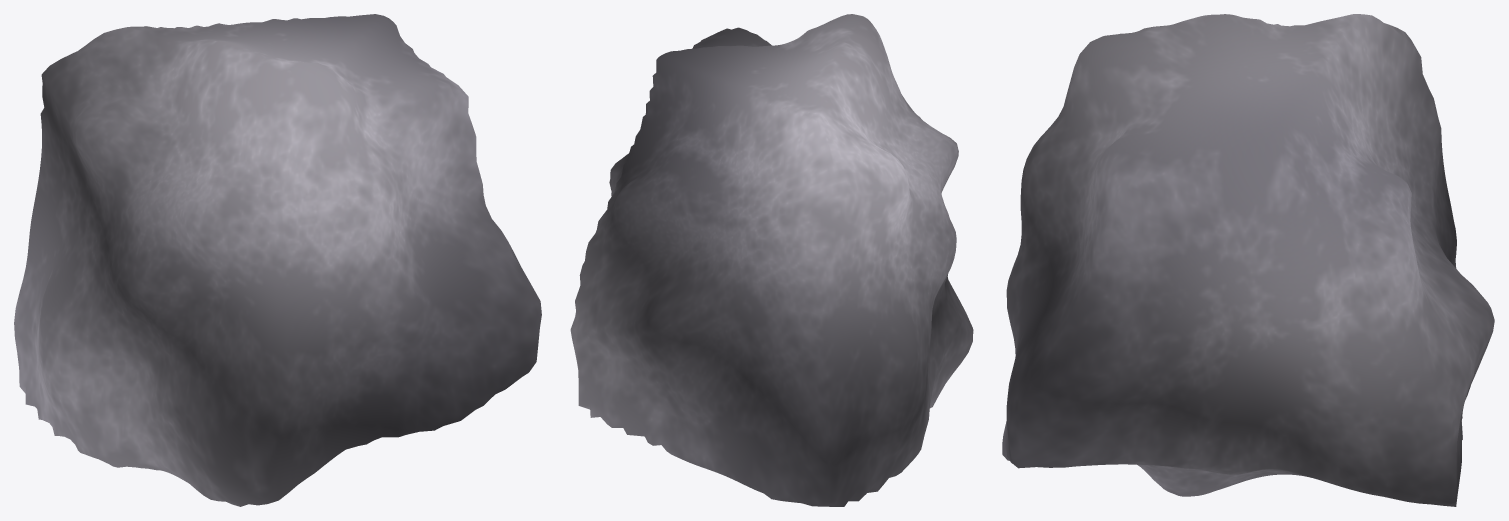
File: asteroid-monolith.glb
3 views of the same model, side by side, from view 1: azimuth 30°, elevation 25°; view 2: azimuth 150°, elevation 25°; view 3: azimuth 270°, elevation 25° (orthographic). The views are drawn at different scales.
Parts seen in each view (by area): view 1: asteroid_5005; view 2: asteroid_5005; view 3: asteroid_5005.
Part boxes in pixels (x1,y1,x2,y2): asteroid_5005: (14,14,541,506); asteroid_5005: (570,14,973,506); asteroid_5005: (1002,14,1494,506).
Size of the model in its own units: 73.76 by 83.48 by 80.88.
Materials: 1 (1 with a texture image).
